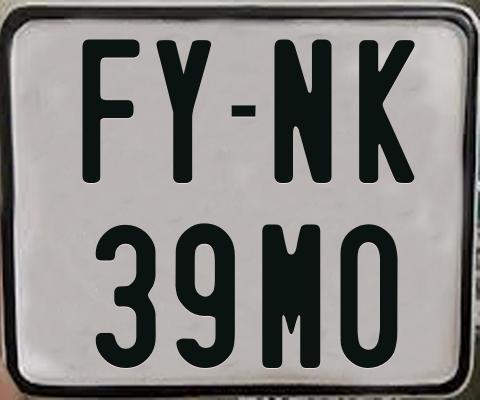0: (337, 224, 400, 373)
3: (96, 222, 159, 369)
9: (175, 221, 236, 370)
F: (81, 37, 144, 186)
K: (357, 39, 418, 188)
M: (261, 221, 322, 369)
N: (273, 38, 333, 184)
Y: (155, 37, 213, 182)
